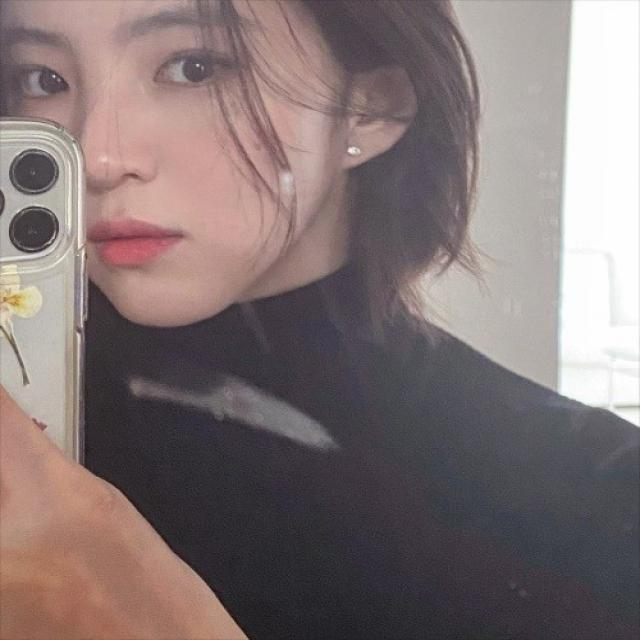lens: (0, 137, 67, 269)
phone: (2, 117, 86, 463)
